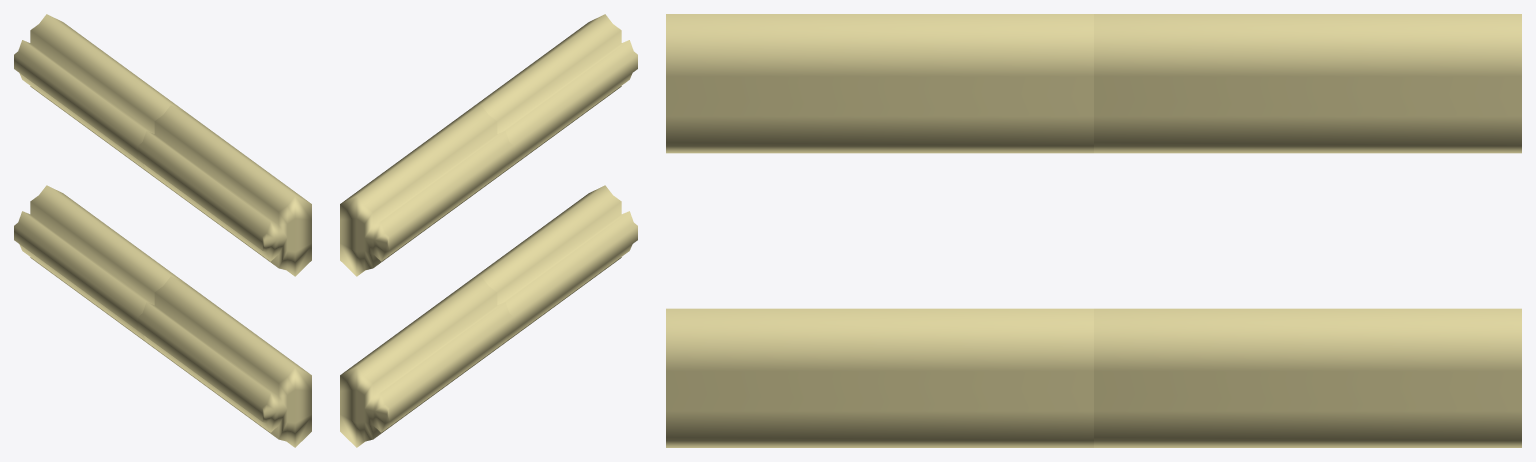
Rendered from Statues_Lign_01A.fbx.
3 views of the same model, side by side, from view 1: azimuth 30°, elevation 25°; view 2: azimuth 150°, elevation 25°; view 3: azimuth 270°, elevation 25° (orthographic). The views are drawn at different scales.
Visible parts, largest first — view 1: Statues_Lign_01A; view 2: Statues_Lign_01A; view 3: Statues_Lign_01A.
Boxes of the visible parts, x1,y1,x2,y2 form: Statues_Lign_01A: (14,14,311,447); Statues_Lign_01A: (340,14,637,447); Statues_Lign_01A: (666,14,1521,447).
Size of the model in its own units: 34.45 by 168 by 300.
